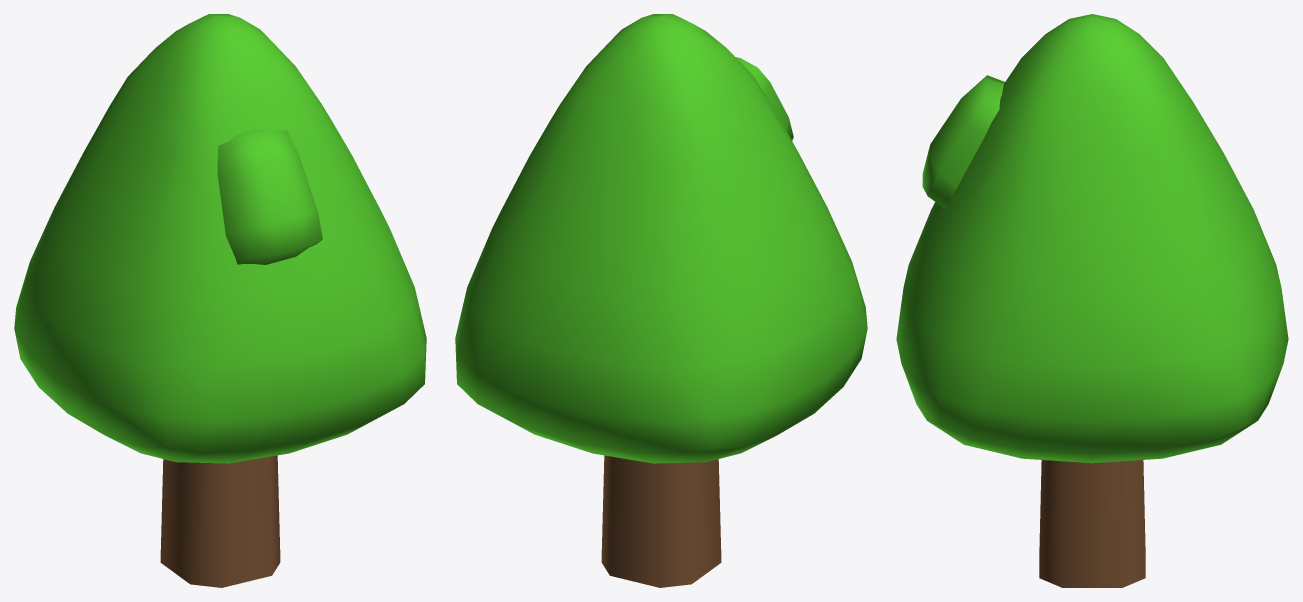
File: tree01_s02.FBX
The picture shows the model from 3 angles, left to right: view 1: azimuth 30°, elevation 25°; view 2: azimuth 150°, elevation 25°; view 3: azimuth 270°, elevation 25°; orthographic projection.
Visible parts, largest first — view 1: tree01_s02; view 2: tree01_s02; view 3: tree01_s02.
Part boxes in pixels (left/top/right/bottom): tree01_s02: left=14, top=14, right=426, bottom=587; tree01_s02: left=455, top=14, right=867, bottom=587; tree01_s02: left=896, top=14, right=1288, bottom=587.
Size of the model in its own units: 189 by 192 by 296.
Materials: 1 (1 with a texture image).
